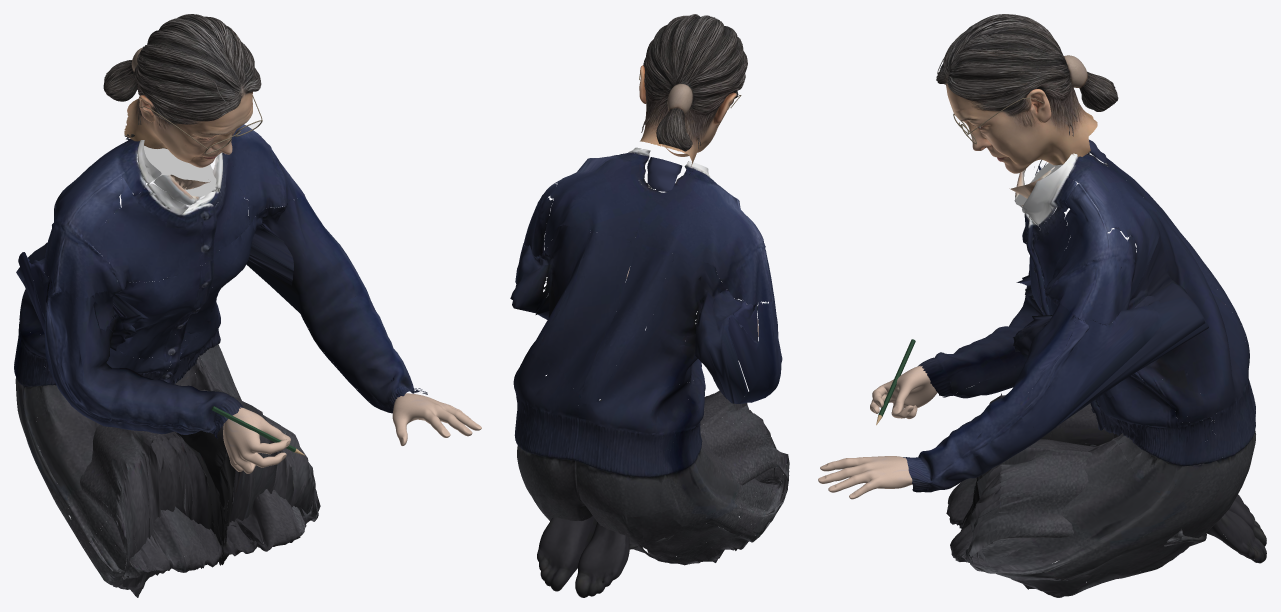
The model's file is kikite_write.glb.
The picture shows the model from 3 angles, left to right: view 1: azimuth 30°, elevation 25°; view 2: azimuth 150°, elevation 25°; view 3: azimuth 270°, elevation 25°; orthographic projection. The views are drawn at different scales.
Visible parts, largest first — view 1: kikite_body, kikite_head, kikite_hands; view 2: kikite_body, kikite_head; view 3: kikite_body, kikite_head, kikite_hands.
Part boxes in pixels (x1=…): kikite_body: x1=14, y1=124, x2=427, y2=597; kikite_head: x1=103, y1=14, x2=261, y2=167; kikite_hands: x1=223, y1=393, x2=481, y2=473; kikite_body: x1=510, y1=147, x2=789, y2=597; kikite_head: x1=639, y1=14, x2=747, y2=167; kikite_body: x1=903, y1=139, x2=1266, y2=597; kikite_head: x1=936, y1=14, x2=1118, y2=173; kikite_hands: x1=818, y1=365, x2=937, y2=499.
Bounding box in the file's own units: 0.5717 × 0.991 × 0.7116.
Materials: 8 (3 with a texture image).
